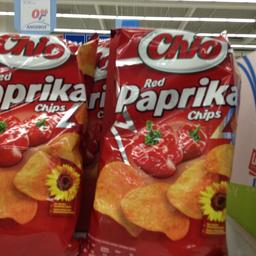chips: (92, 28, 236, 254), (0, 33, 95, 255)
